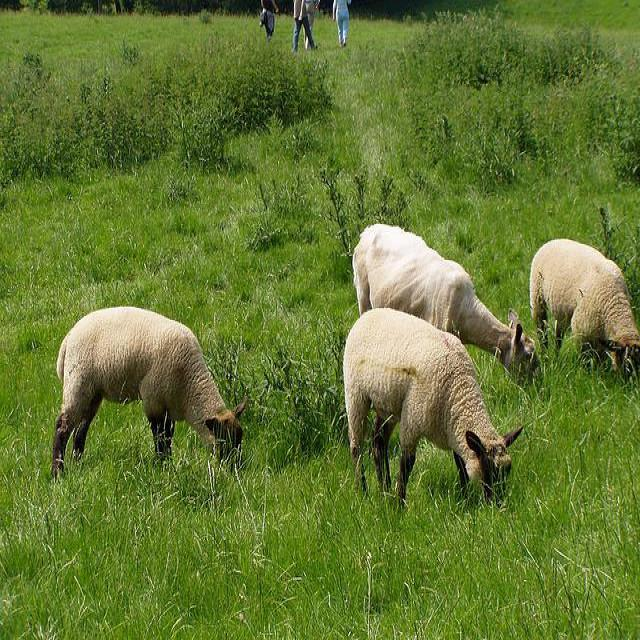Sheep: (343, 308, 525, 511), (50, 306, 248, 482), (352, 224, 542, 373), (529, 237, 639, 384)
